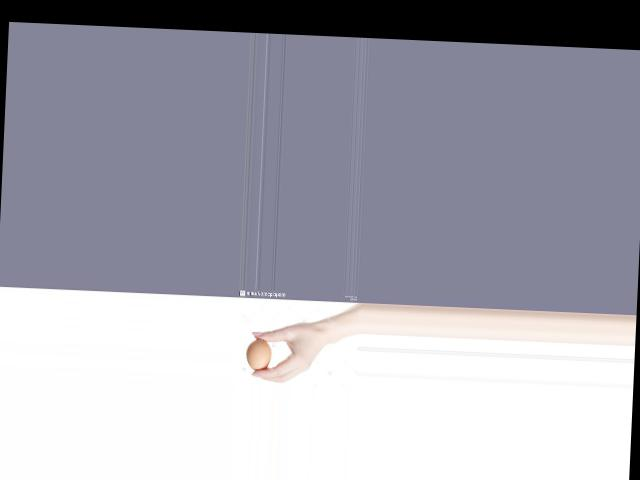egg: (246, 338, 273, 370)
